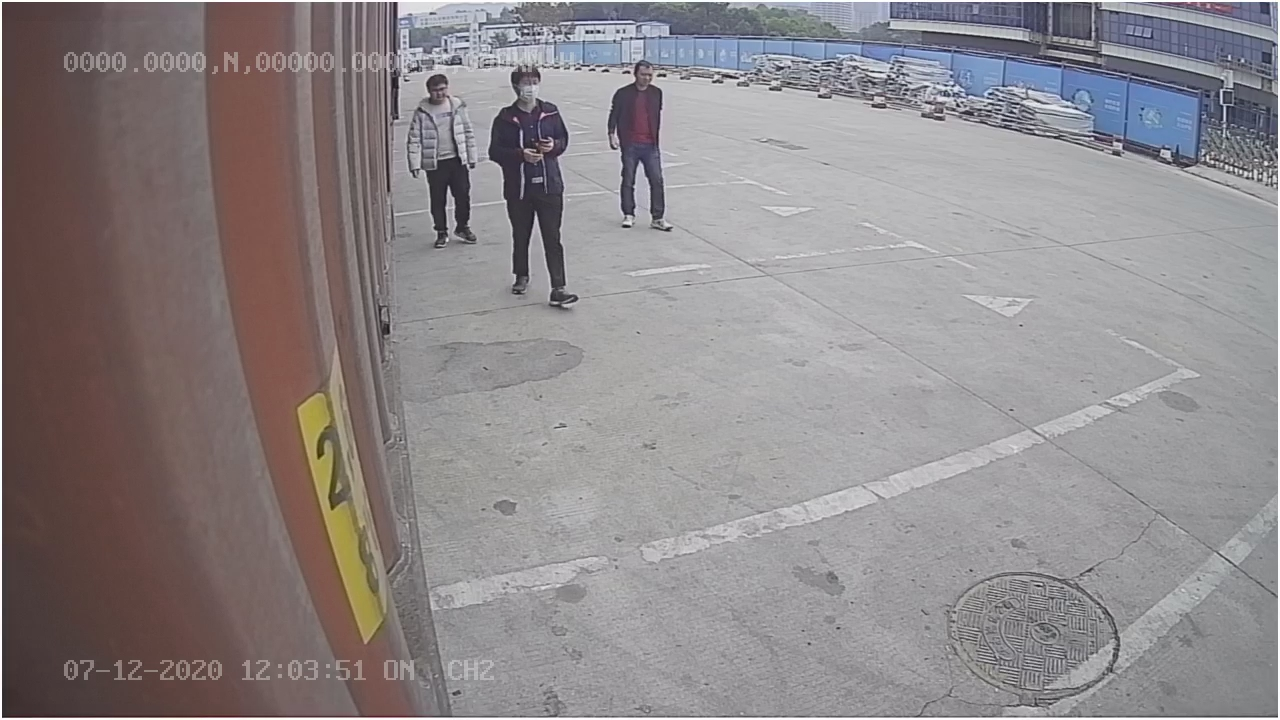person: (487, 67, 580, 311)
